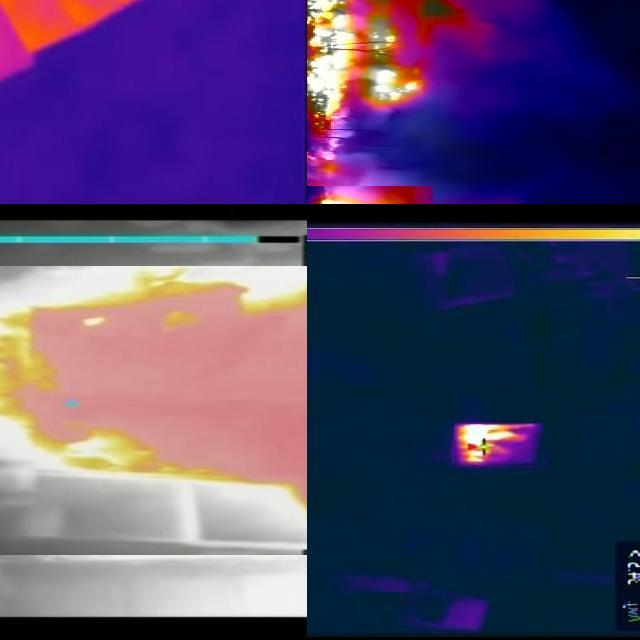fire: (1, 266, 308, 555), (308, 1, 448, 173), (455, 423, 544, 466)
